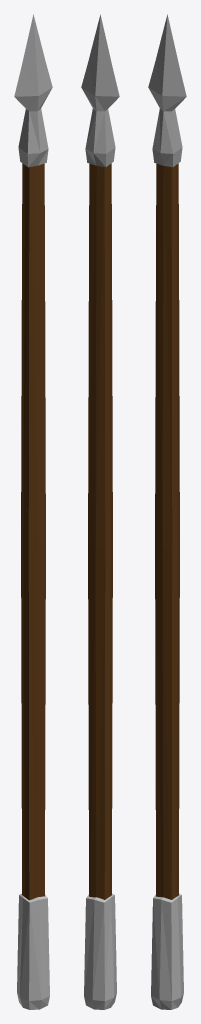
Rendered from Spear.glb.
The picture shows the model from 3 angles, left to right: view 1: azimuth 30°, elevation 25°; view 2: azimuth 150°, elevation 25°; view 3: azimuth 330°, elevation 25°; orthographic projection.
Visible parts, largest first — view 1: Pike_Pike_Cube.001; view 2: Pike_Pike_Cube.001; view 3: Pike_Pike_Cube.001.
Part boxes in pixels (bbox=[...]): Pike_Pike_Cube.001: bbox=[14, 14, 52, 1009]; Pike_Pike_Cube.001: bbox=[81, 14, 119, 1009]; Pike_Pike_Cube.001: bbox=[148, 14, 186, 1009].
Bounding box in the file's own units: 0.4167 × 10.27 × 0.2958.
1 material, 1 textured.
